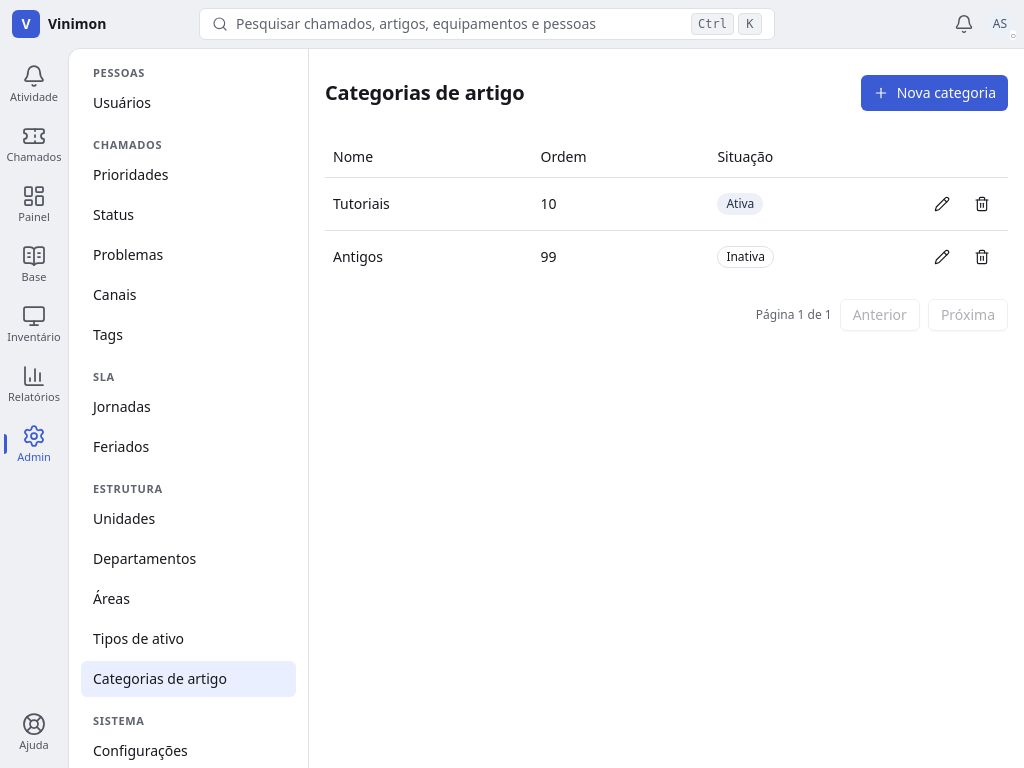
Scenario: /admin/categorias-artigo › (c) 409 ao excluir mostra a mensagem do servidor
Step 1. Click the button named "Excluir Tutoriais" → (982, 204), box [964, 186, 1000, 222]
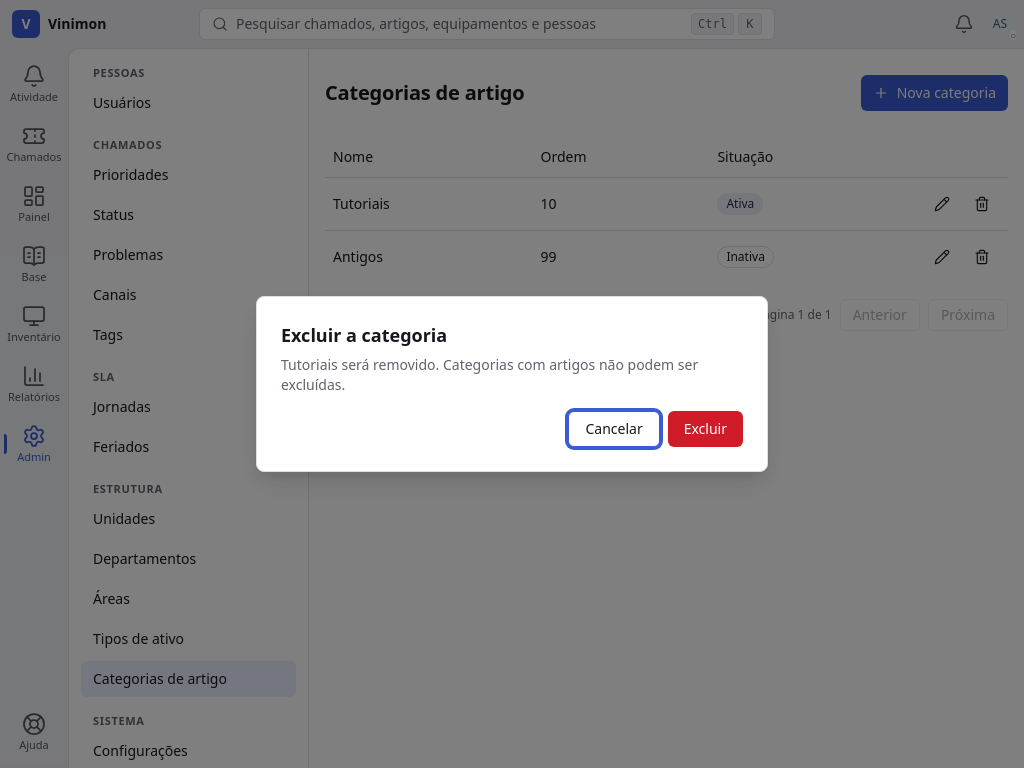
Step 2. Click the button "Excluir" → (705, 429), box [668, 411, 743, 447]
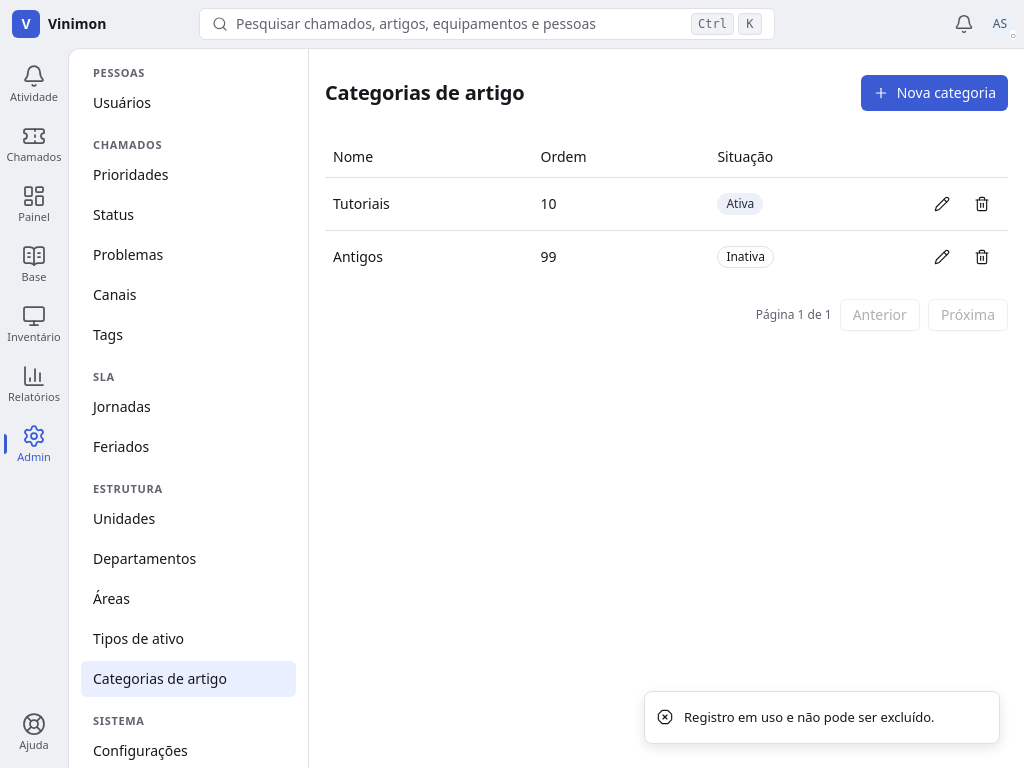
Expected: the text "Registro em uso e não pode ser excluído." is shown, [684, 708, 935, 727]
